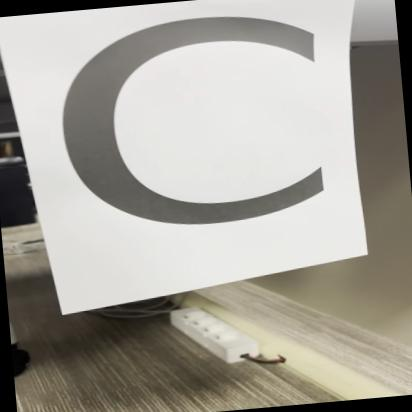seat: (49, 2, 354, 261)
